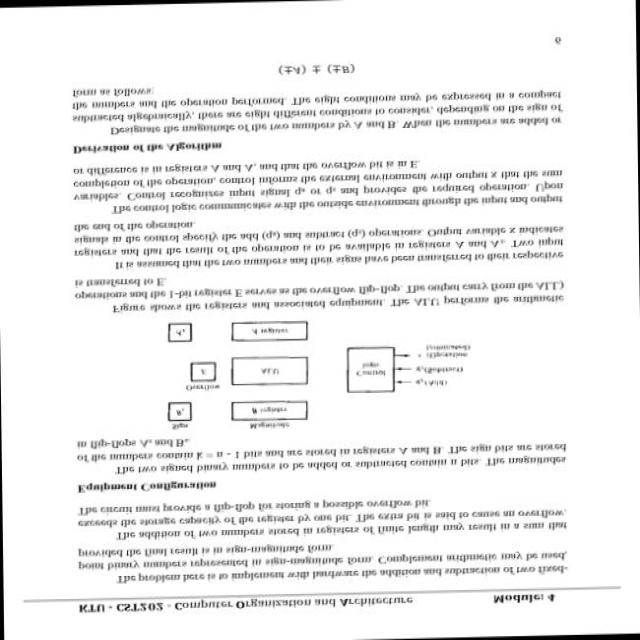Figure Detection - v3 Dataset Version2: (157, 311, 492, 437)
